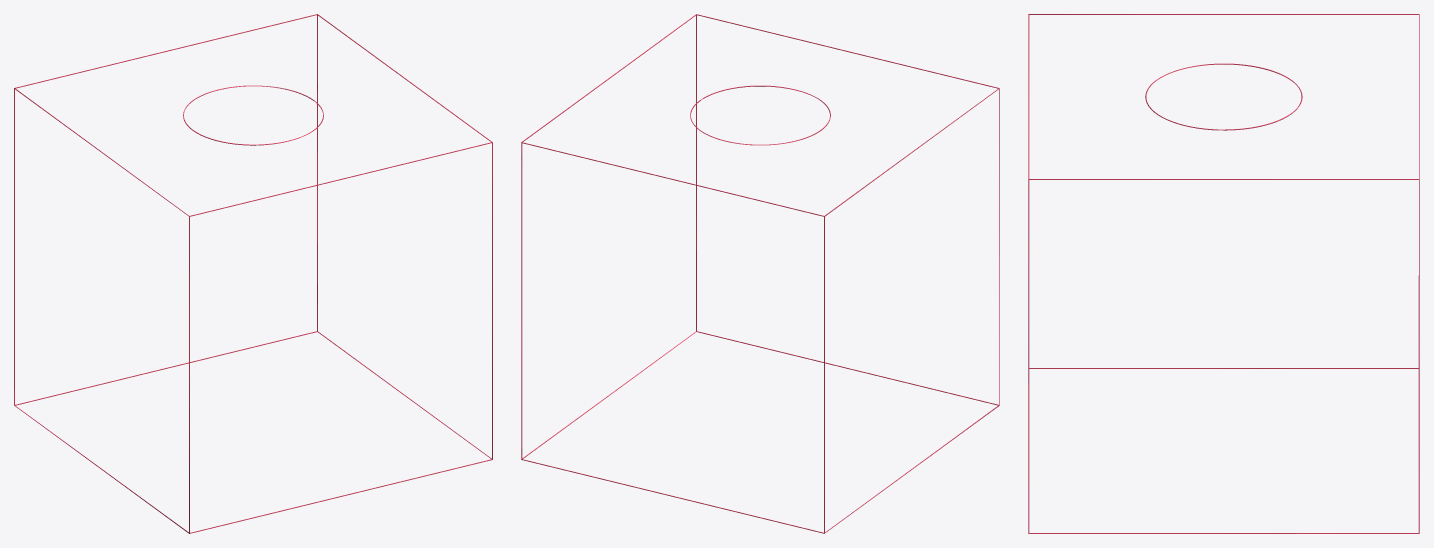
The model's file is Wire_wireframe_box.fbx.
The picture shows the model from 3 angles, left to right: view 1: azimuth 30°, elevation 25°; view 2: azimuth 150°, elevation 25°; view 3: azimuth 270°, elevation 25°; orthographic projection. The views are drawn at different scales.
Parts seen in each view (by area): view 1: Wire_box_wireframe; view 2: Wire_box_wireframe; view 3: Wire_box_wireframe.
Boxes of the visible parts, x1=… form: Wire_box_wireframe: x1=14, y1=14, x2=492, y2=533; Wire_box_wireframe: x1=521, y1=14, x2=999, y2=533; Wire_box_wireframe: x1=1028, y1=14, x2=1419, y2=533.
Size of the model in its own units: 100 by 100 by 100.
